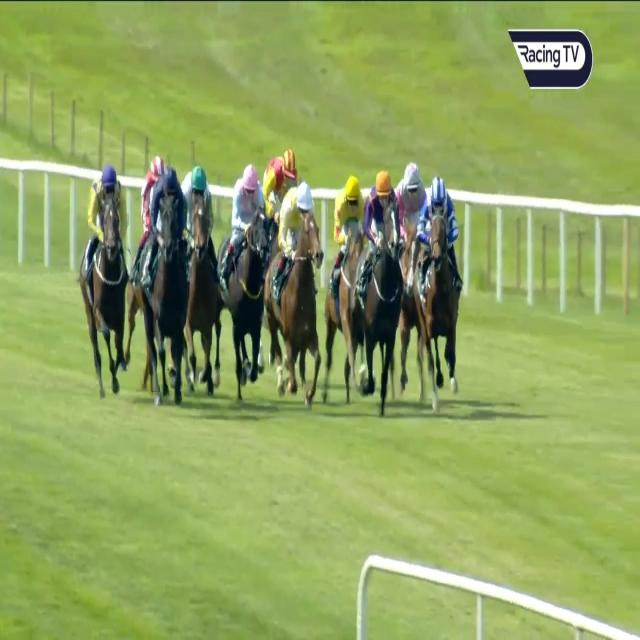horses-racing: (270, 179, 324, 399), (361, 166, 404, 414), (81, 162, 128, 382), (147, 159, 187, 411), (418, 176, 465, 382), (180, 156, 219, 400), (228, 156, 262, 391), (328, 170, 365, 358), (392, 151, 426, 320), (260, 144, 300, 240), (137, 148, 165, 250)
